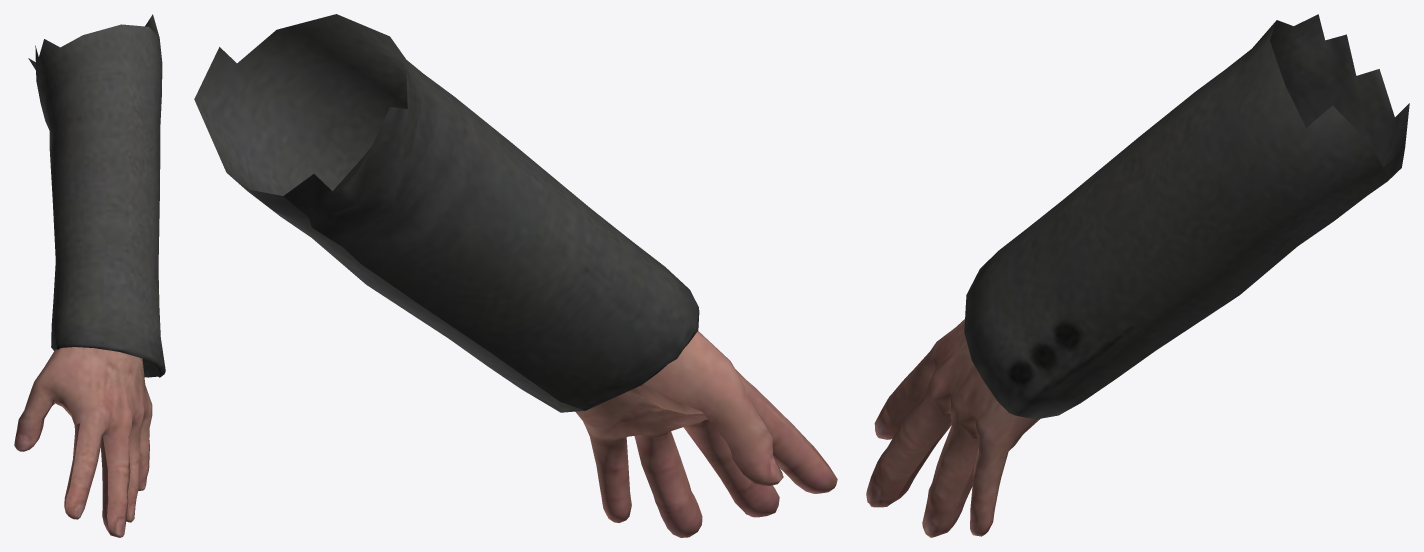
File: Alumno2SubLeftArm.obj
The picture shows the model from 3 angles, left to right: view 1: azimuth 30°, elevation 25°; view 2: azimuth 150°, elevation 25°; view 3: azimuth 270°, elevation 25°; orthographic projection. The views are drawn at different scales.
Visible parts, largest first — view 1: Alumno2SubLeftArm; view 2: Alumno2SubLeftArm; view 3: Alumno2SubLeftArm.
Part boxes in pixels (x1=…): Alumno2SubLeftArm: x1=14, y1=14, x2=165, y2=537; Alumno2SubLeftArm: x1=194, y1=14, x2=837, y2=537; Alumno2SubLeftArm: x1=866, y1=14, x2=1409, y2=537.
Size of the model in its own units: 0.3525 by 0.523 by 0.4506.
Materials: 1 (1 with a texture image).
